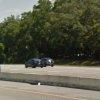Tree: (9, 5, 100, 59)
